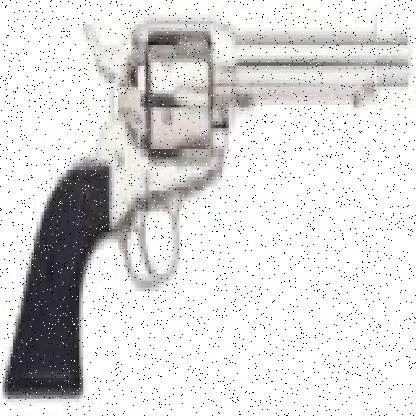pistol: (5, 10, 411, 395)
